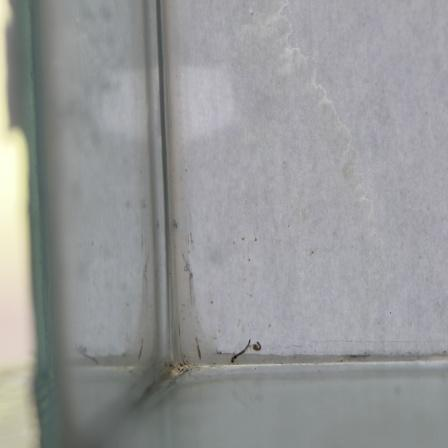Jentik-Nyamuk: (227, 336, 264, 366)
